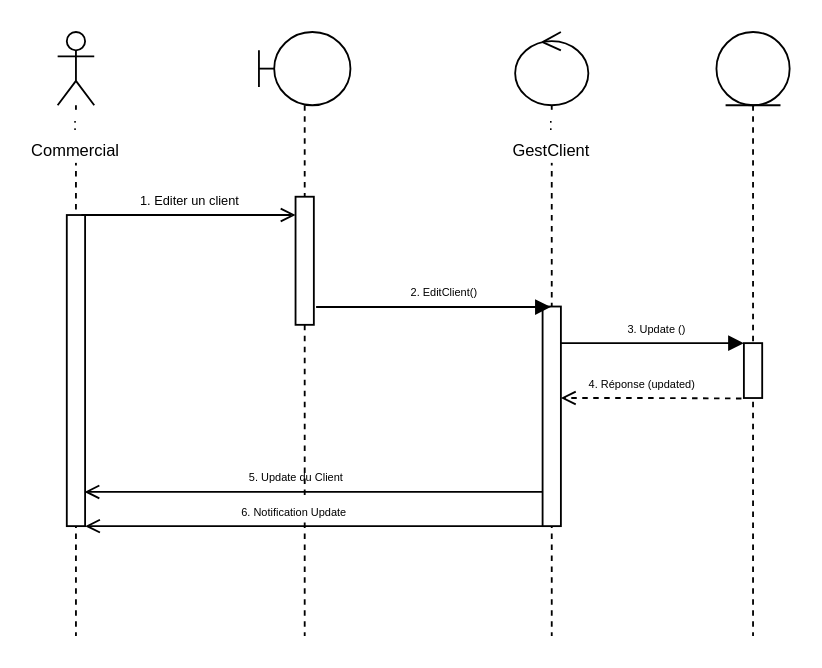
The diagram is 822 pixels wide and 668 high, and some of its shapes have lost their labels. The box of each missing label's shape, as (x1, y1, x2, y2) in pixels:
: Client: (257, 30, 350, 636)
: SGBD: (715, 30, 790, 636)
